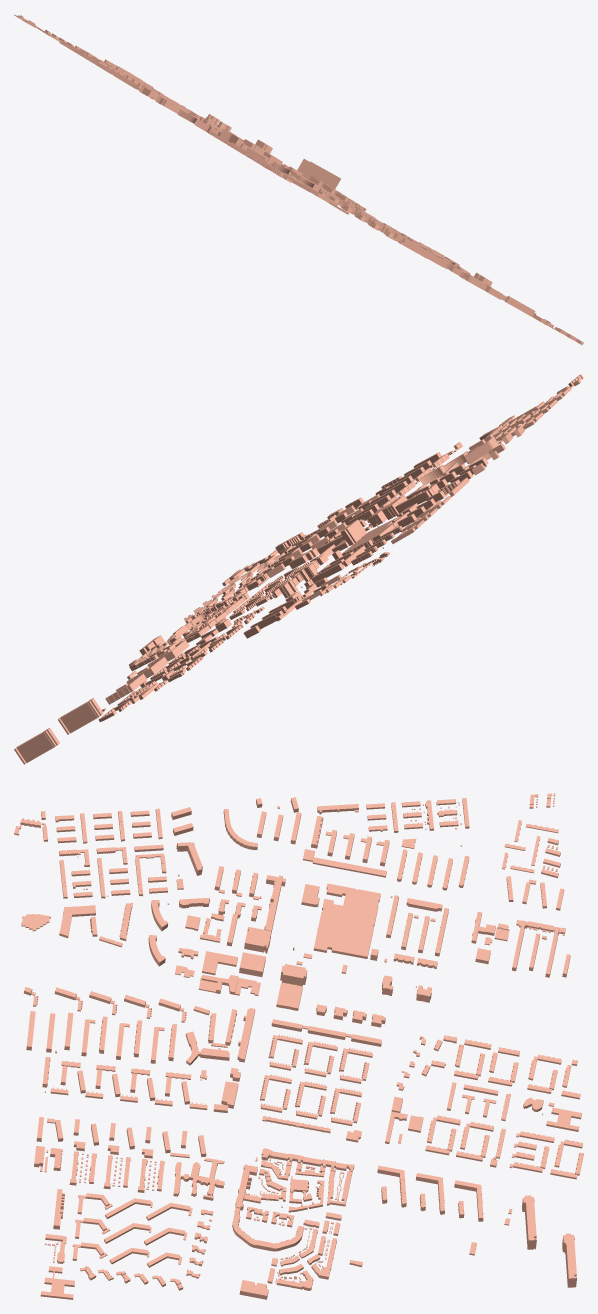
3 views of the same model, one above another, from view 1: azimuth 30°, elevation 25°; view 2: azimuth 150°, elevation 25°; view 3: azimuth 270°, elevation 25° (orthographic). The views are drawn at different scales.
Bounding box in the file's own units: 1048 × 760 × 1244.
